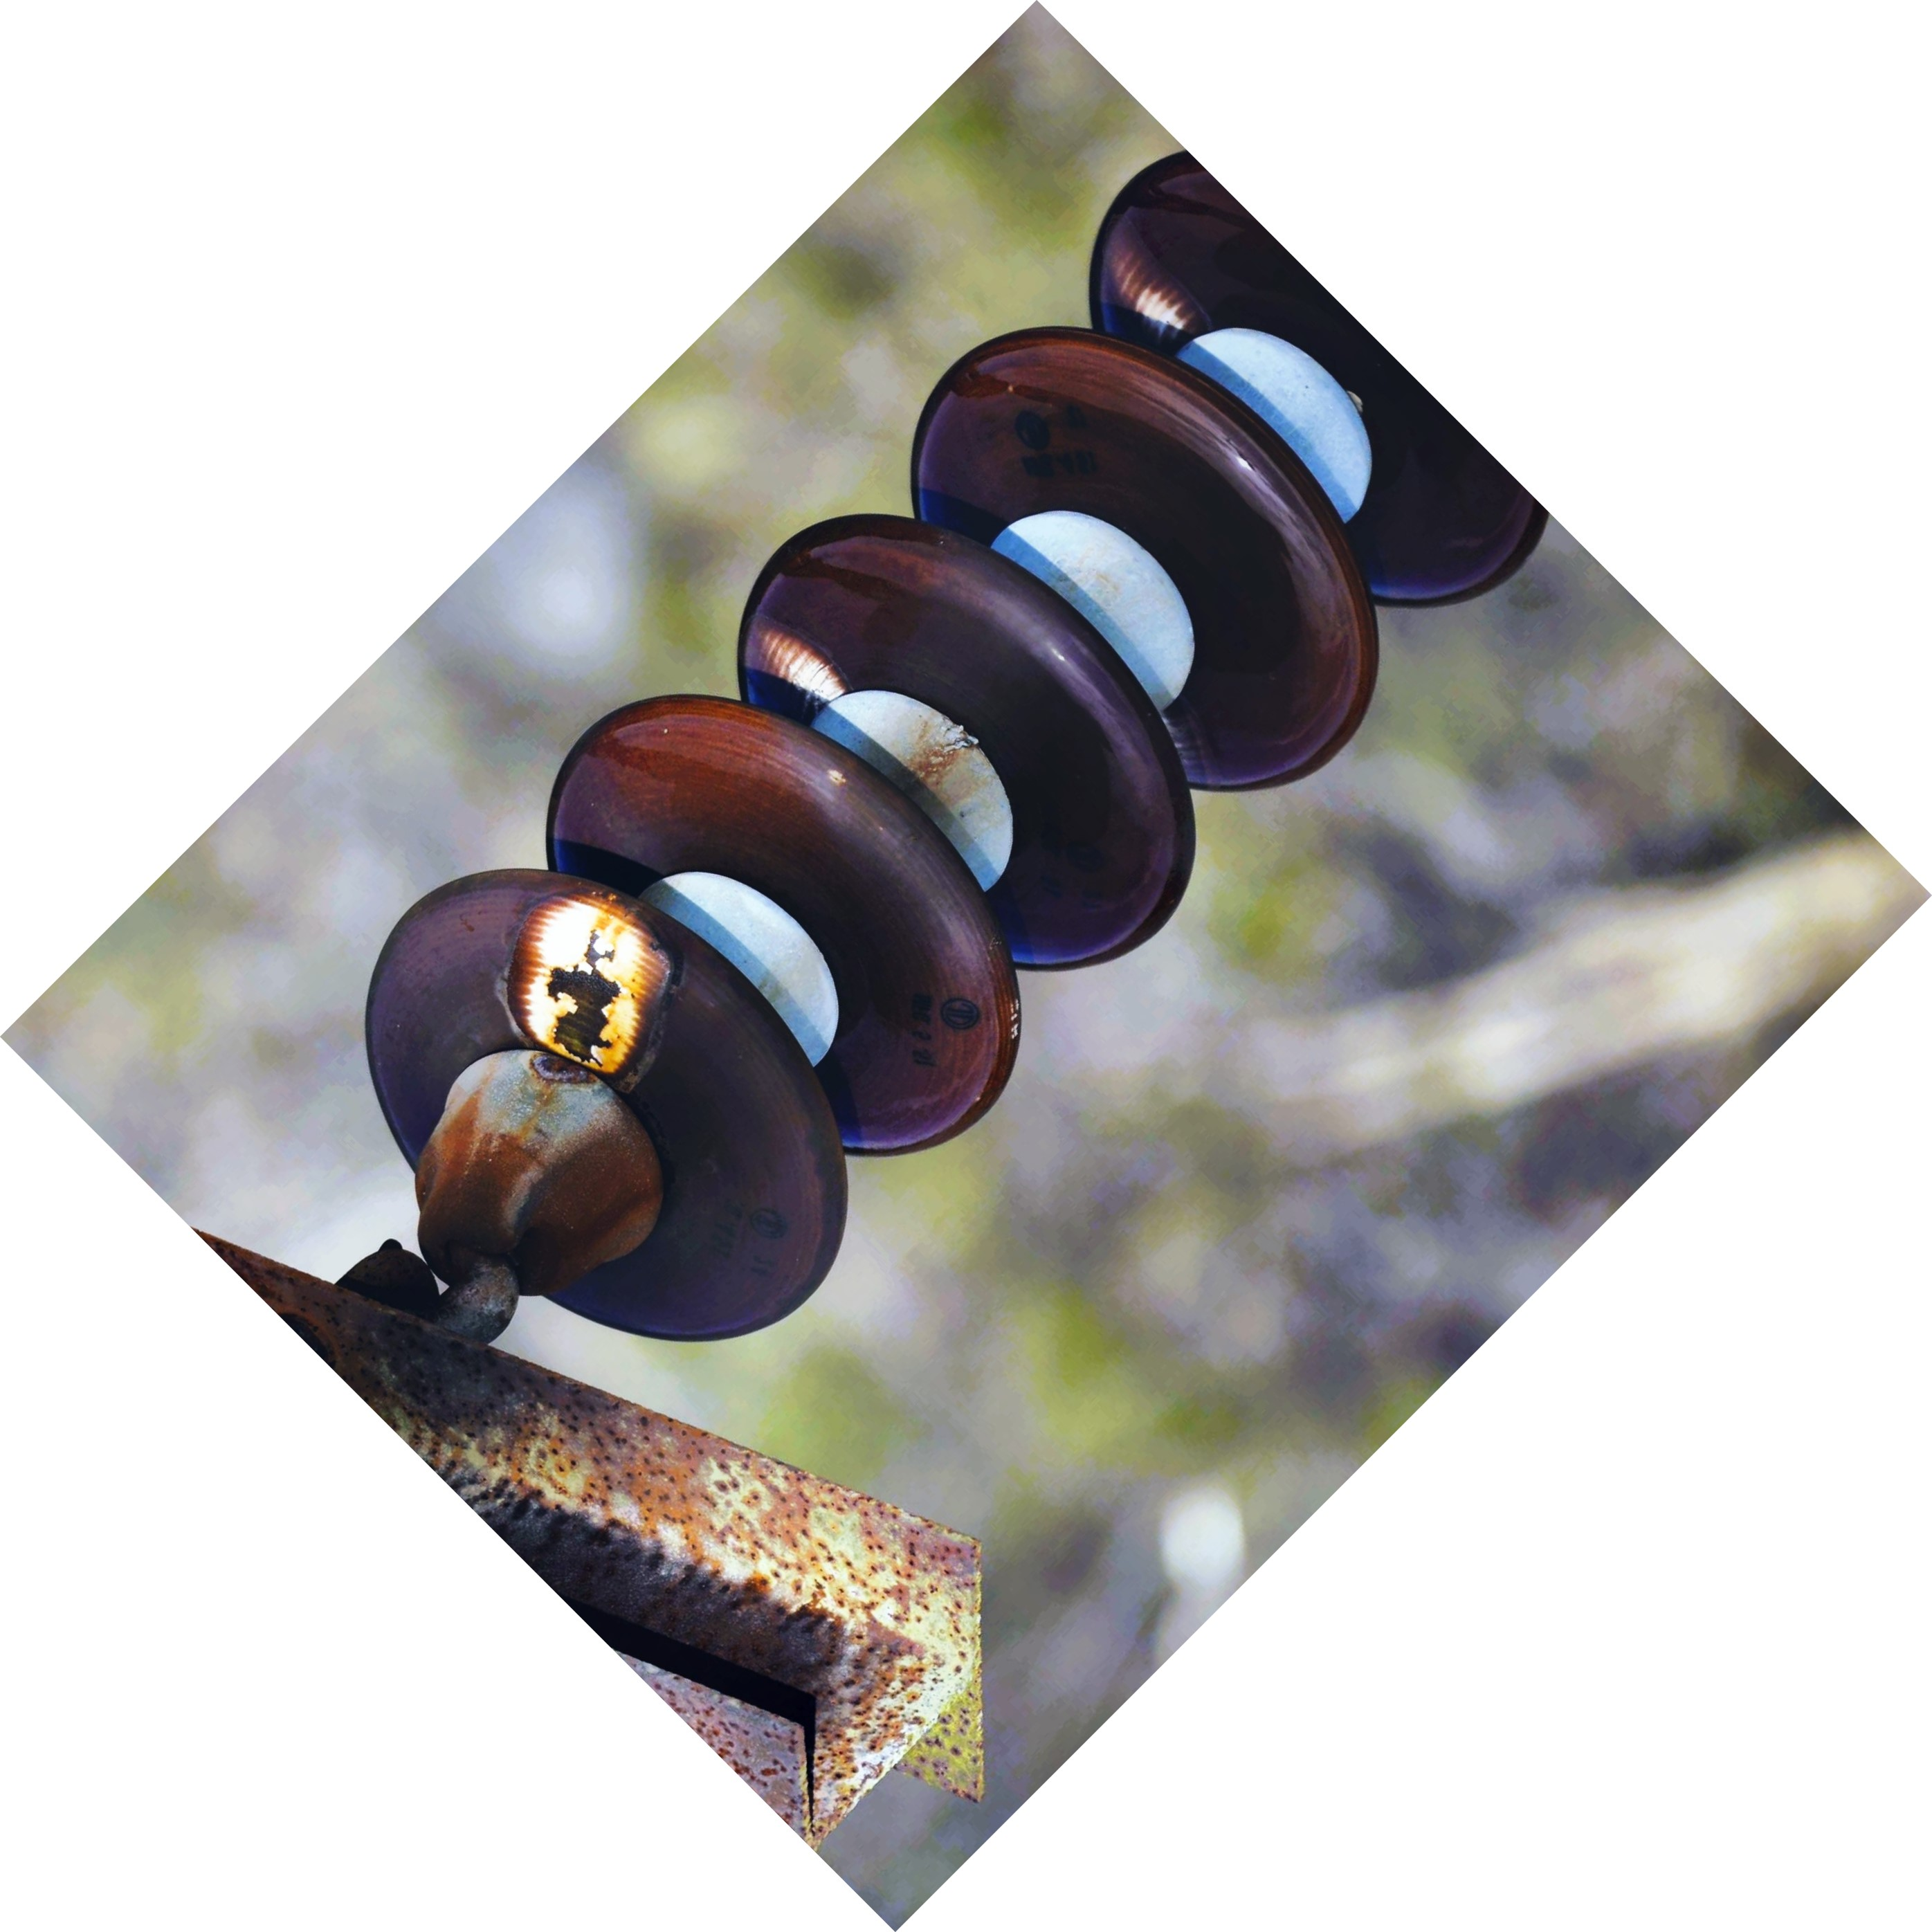Insulator flashover: (311, 844, 874, 1357)
